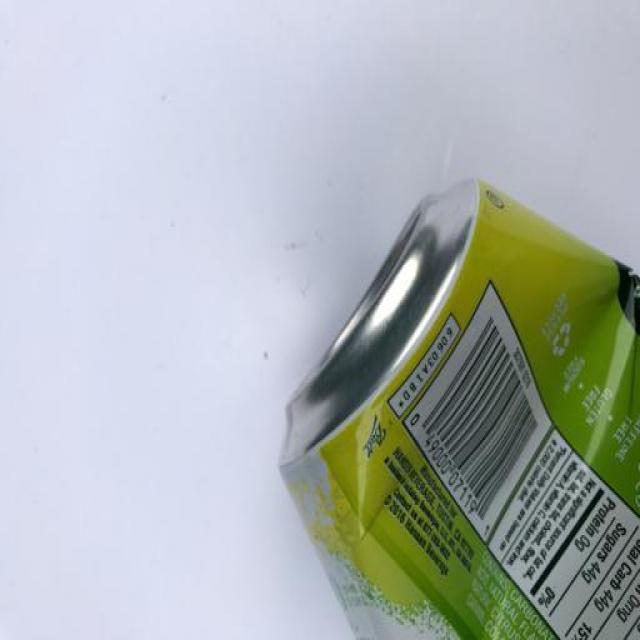metel: (221, 151, 640, 640)
